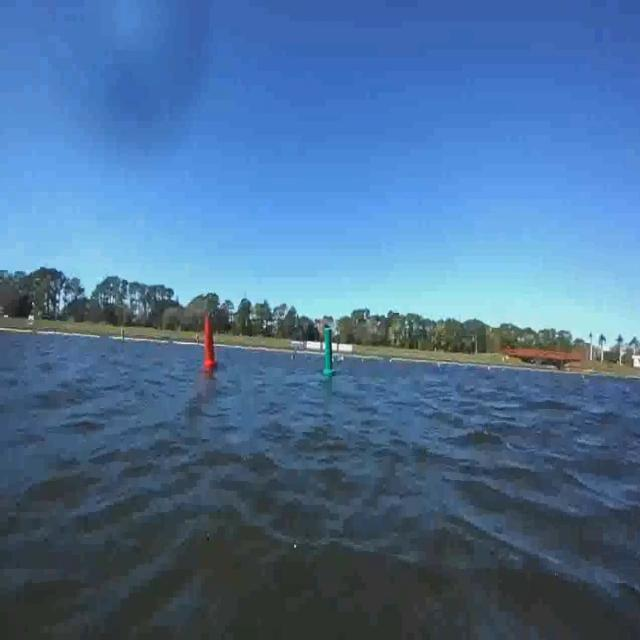green-column-buoy: (322, 327, 336, 377)
red-column-buoy: (202, 315, 218, 369)
